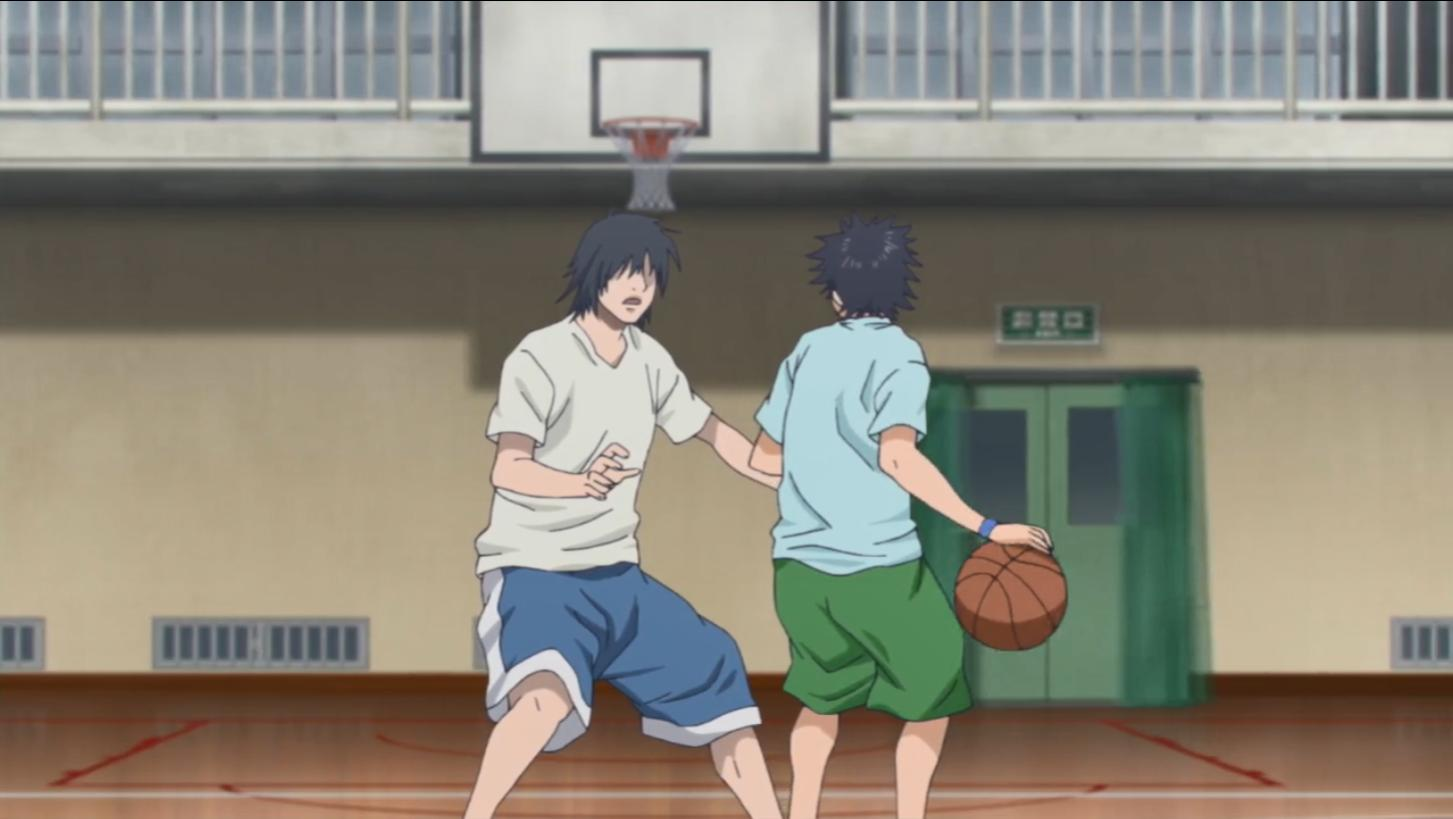ball: (953, 540, 1070, 654)
